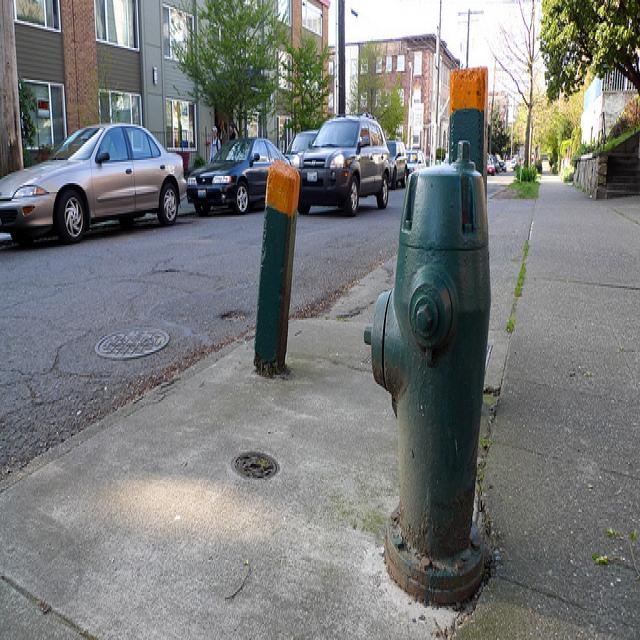Vehicle: (0, 120, 188, 246), (289, 112, 391, 218), (187, 138, 290, 216), (284, 128, 318, 162), (388, 141, 408, 189), (406, 149, 427, 173), (490, 150, 505, 168), (486, 158, 496, 177), (510, 161, 516, 168)
